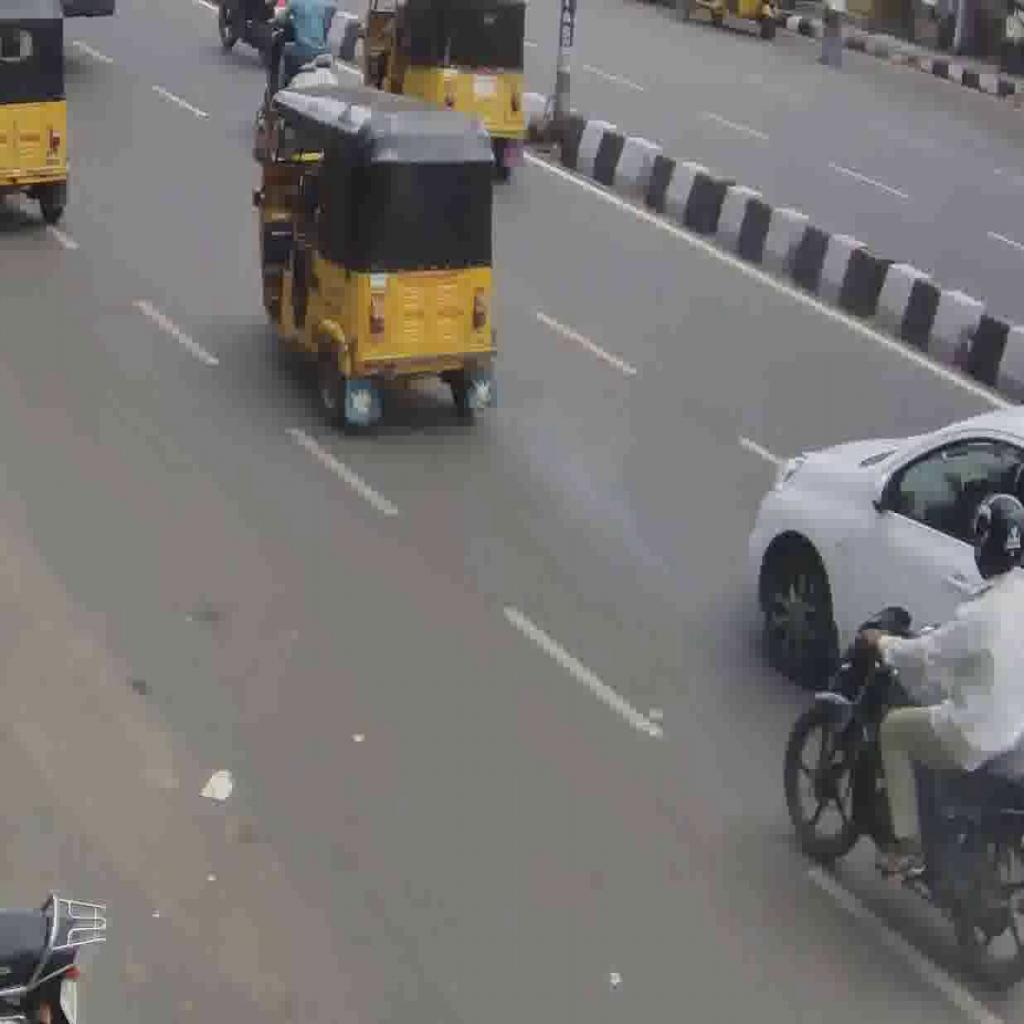helmet: (780, 603, 1024, 987)
